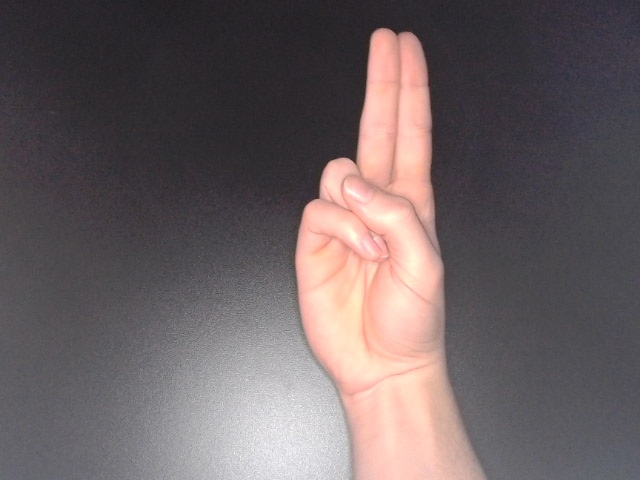r: (288, 22, 454, 421)
